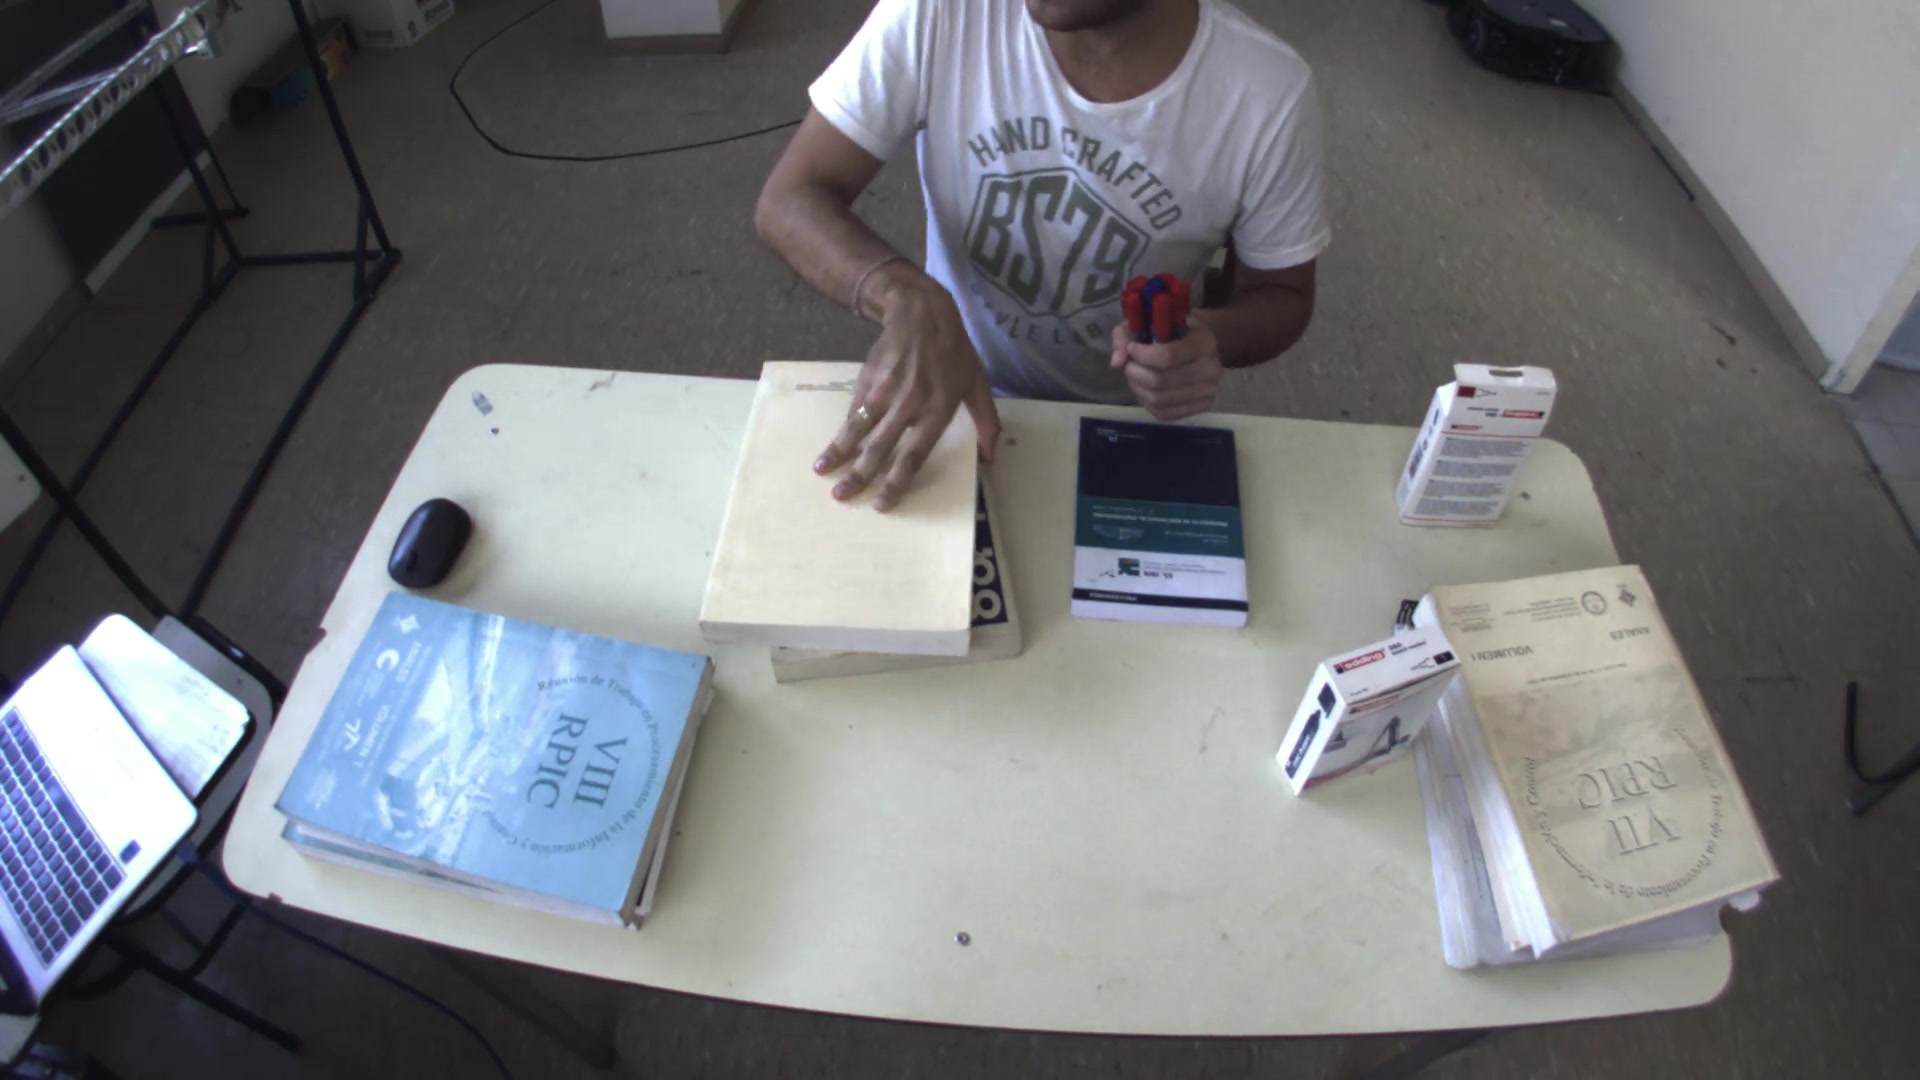hand: (800, 272, 1015, 516), (1098, 273, 1241, 434)
